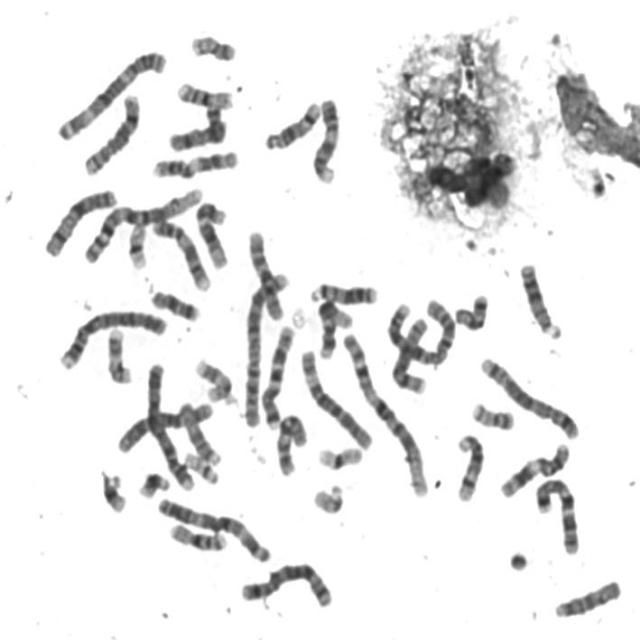A1: (336, 325, 432, 499), (77, 181, 206, 266)
A2: (238, 264, 292, 429), (382, 290, 458, 369)
A3: (52, 42, 171, 142), (153, 490, 274, 565)
B4: (55, 302, 170, 372), (142, 356, 198, 492)
B5: (476, 349, 583, 441), (235, 556, 335, 610)
C10: (244, 222, 288, 323), (272, 406, 310, 478)
C11: (496, 436, 573, 500), (147, 143, 241, 180)
C12: (191, 194, 232, 270), (313, 294, 356, 360)
C6: (296, 342, 376, 451), (111, 394, 216, 454)
C7: (256, 318, 298, 429), (531, 471, 583, 557)
C8: (80, 87, 144, 177), (387, 310, 432, 395)
C9: (148, 213, 213, 293), (309, 91, 343, 186)
D13: (516, 255, 565, 341), (306, 275, 381, 308)
D14: (261, 94, 325, 152), (452, 426, 488, 504)
D15: (174, 395, 224, 468), (550, 573, 624, 620)
E16: (164, 516, 230, 553), (172, 74, 236, 110)
E17: (190, 352, 238, 406), (103, 322, 135, 386)
E18: (146, 283, 202, 322), (450, 286, 491, 332)
F19: (313, 439, 367, 471), (123, 216, 151, 271)
F20: (186, 27, 239, 63), (467, 395, 518, 432)
G21: (96, 463, 130, 515), (134, 465, 172, 500)
G22: (179, 445, 222, 486), (308, 477, 347, 516)
X: (40, 182, 120, 260), (164, 98, 230, 153)
